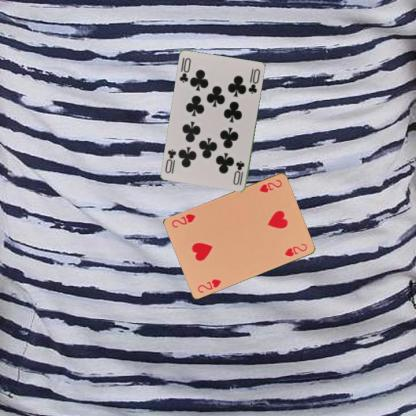10c: (230, 158, 245, 187), (177, 56, 192, 84)
2h: (196, 276, 223, 294), (257, 176, 283, 193)
